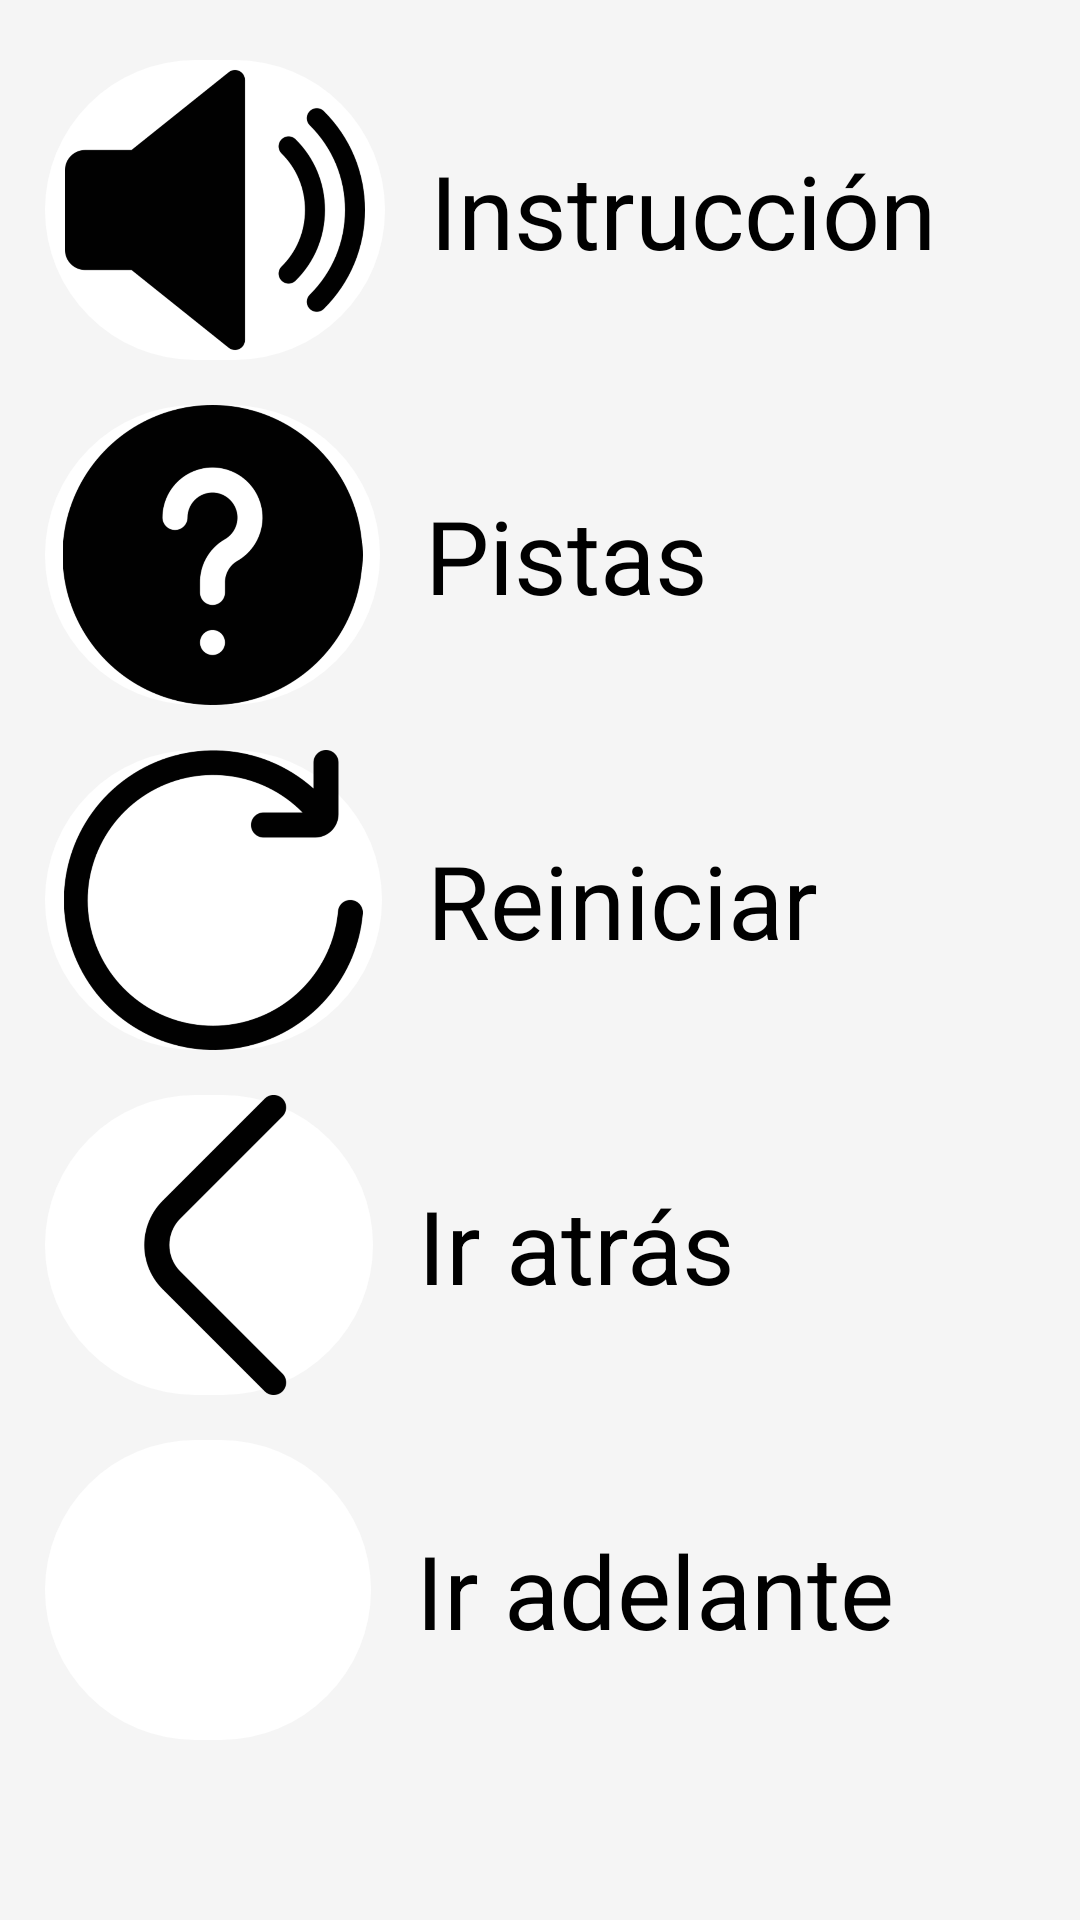

Icons on this 1080px x 1920px Android screen, each with the point to tap as [x,y]:
angulo la izquierda: [209,1245]
gira la derecha: [213,900]
volume: [215,210]
